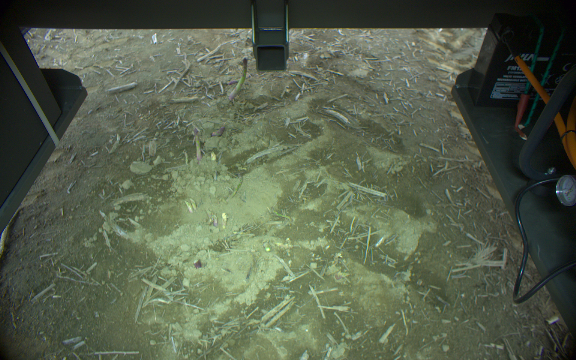aspa: (226, 55, 248, 103), (192, 127, 204, 163)
